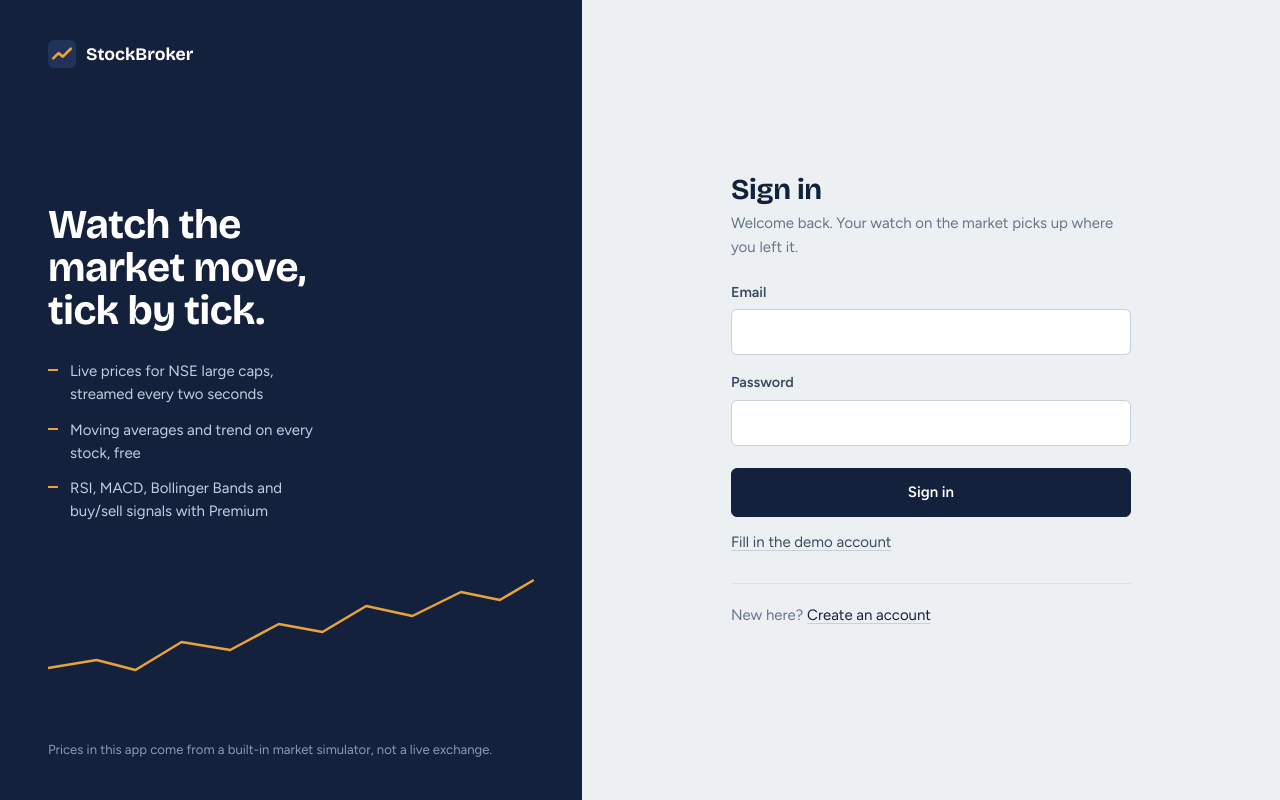
Test: Login page › fills in the demo account with one click
What coordinates should you click on to do the following:
click the button "Fill in the demo account"
I would click on:
 (811, 543)
Its box is [731,531,892,555].
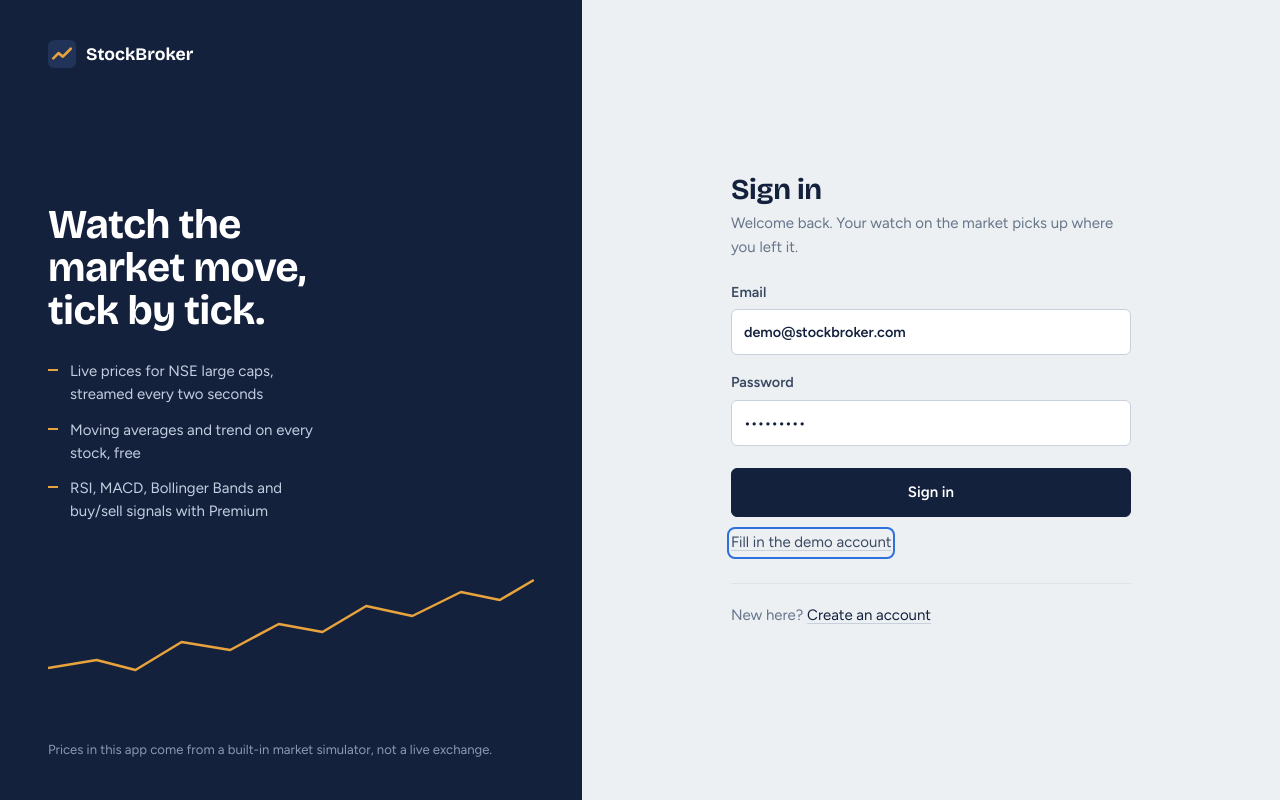
Check: the field labelled "Email" holds "demo@stockbroker.com", box [731,309,1131,355]
Check: the password field labelled "Password" holds "Demo@1234", box [731,400,1131,446]
